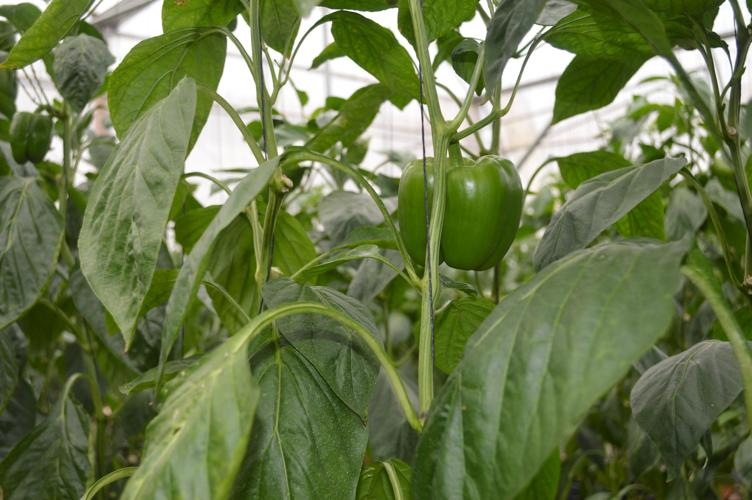BellPepper: (398, 157, 525, 274), (8, 111, 54, 162)
